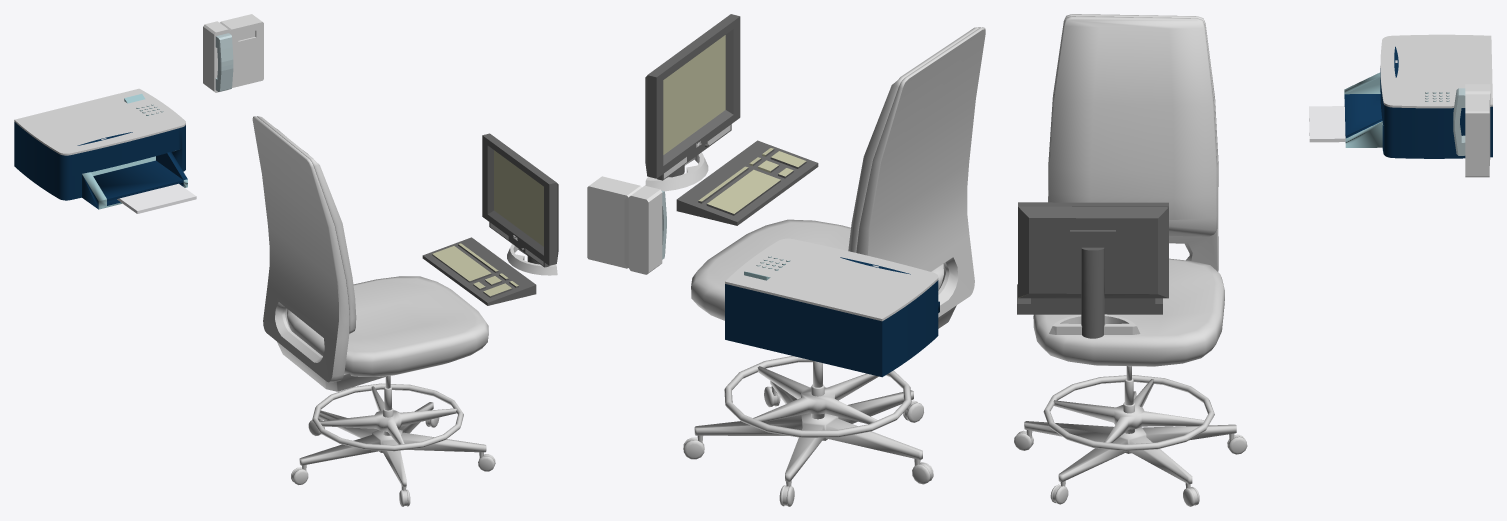
File: Administrativo pc impresor tel silla.fbx
The picture shows the model from 3 angles, left to right: view 1: azimuth 30°, elevation 25°; view 2: azimuth 150°, elevation 25°; view 3: azimuth 270°, elevation 25°; orthographic projection. The views are drawn at different scales.
Parts seen in each view (by area): view 1: Chair_MD_02.002, Impressora 03.001, Computador off.002, Cubo.128, telefono; view 2: Chair_MD_02.002, Impressora 03.001, Computador off.002, Cubo.128; view 3: Chair_MD_02.002, Computador off.002, Impressora 03.001, Cubo.128, telefono.
Part boxes in pixels (x1,y1,x2,y2): Chair_MD_02.002: [252, 116, 495, 506]; Impressora 03.001: [14, 88, 196, 213]; Computador off.002: [422, 133, 558, 305]; Cubo.128: [203, 14, 263, 92]; telefono: [215, 33, 233, 91]; Chair_MD_02.002: [683, 27, 985, 506]; Impressora 03.001: [725, 238, 939, 377]; Computador off.002: [645, 14, 818, 225]; Cubo.128: [587, 176, 662, 274]; Chair_MD_02.002: [1014, 14, 1247, 506]; Computador off.002: [1017, 202, 1168, 338]; Impressora 03.001: [1309, 34, 1492, 158]; Cubo.128: [1465, 84, 1490, 177]; telefono: [1453, 88, 1465, 155].
Size of the model in its own units: 130 by 121 by 134.
Materials: 9 (1 with a texture image).
